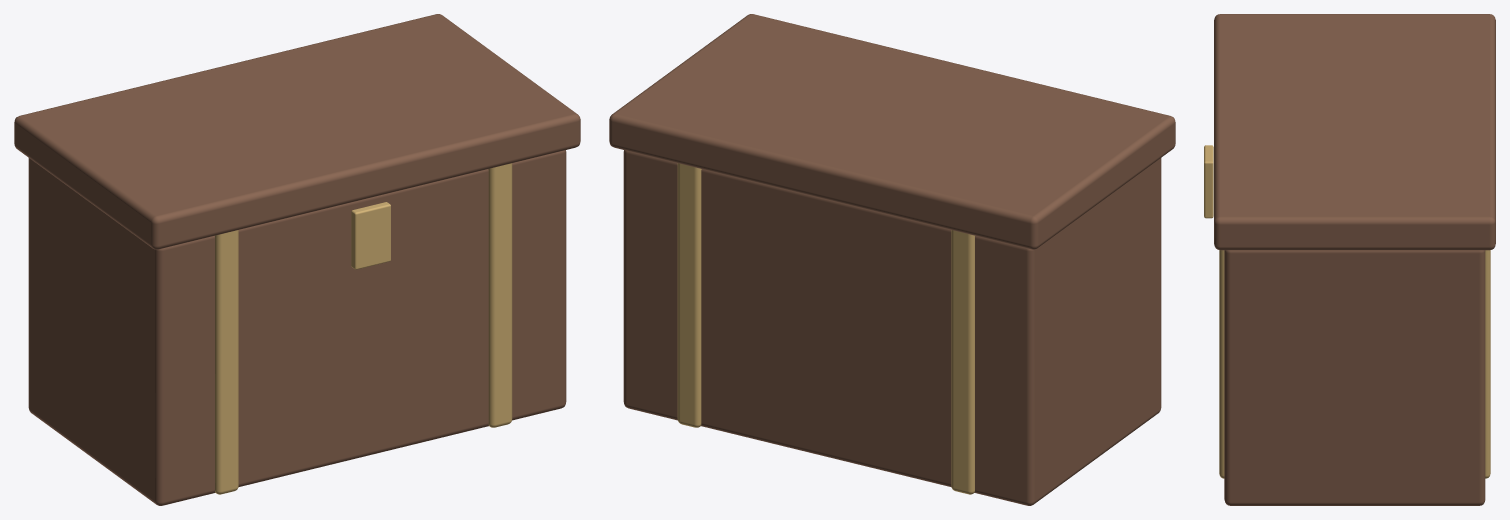
The model's file is griffin-airmail-roost-and-posthouse-feed-storage-chest-8d53bd20__30514.glb.
The picture shows the model from 3 angles, left to right: view 1: azimuth 30°, elevation 25°; view 2: azimuth 150°, elevation 25°; view 3: azimuth 270°, elevation 25°; orthographic projection.
Visible parts, largest first — view 1: feed-storage-chest; view 2: feed-storage-chest; view 3: feed-storage-chest.
Part boxes in pixels (<box>): feed-storage-chest: <box>14,14,580,505</box>; feed-storage-chest: <box>609,14,1175,505</box>; feed-storage-chest: <box>1204,14,1495,505</box>.
Bounding box in the file's own units: 0.94 × 0.62 × 0.559.
